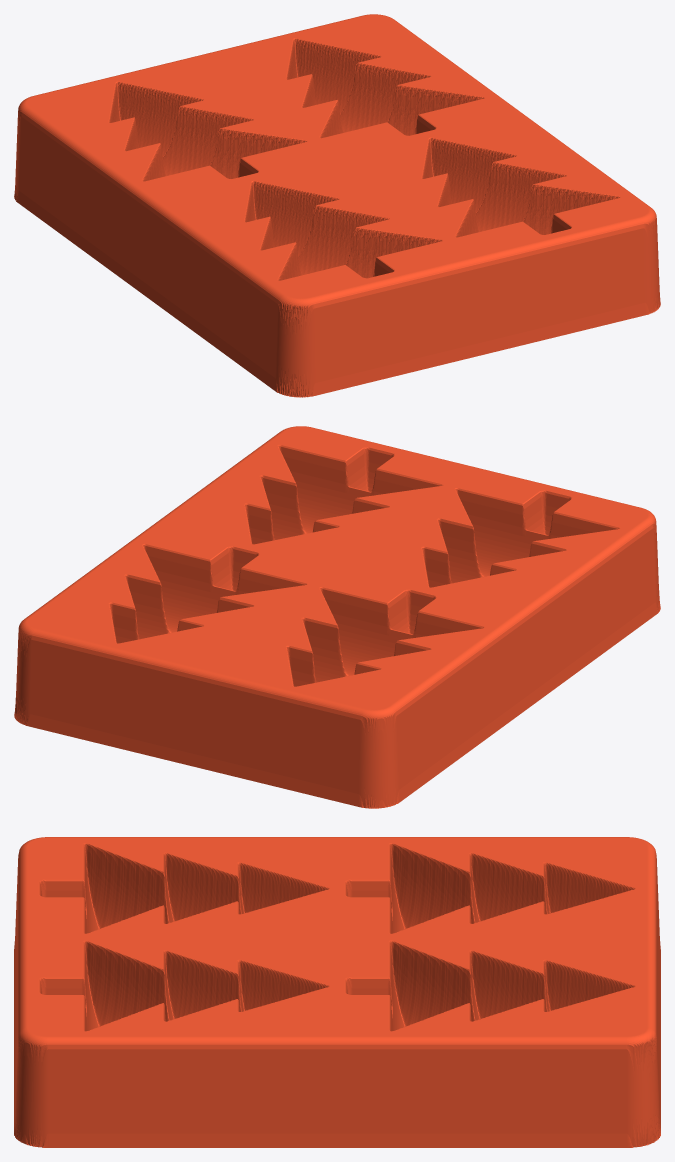
The model's file is mold.glb.
3 renders of one model, top to bottom at view 1: azimuth 30°, elevation 25°; view 2: azimuth 150°, elevation 25°; view 3: azimuth 270°, elevation 25°, orthographic. The views are drawn at different scales.
Visible parts, largest first — view 1: geometry_0; view 2: geometry_0; view 3: geometry_0.
Part boxes in pixels (bbox=[...]): geometry_0: bbox=[14, 14, 660, 397]; geometry_0: bbox=[14, 426, 660, 808]; geometry_0: bbox=[14, 837, 660, 1147].
Size of the model in its own units: 0.1323 by 0.031 by 0.1721.
